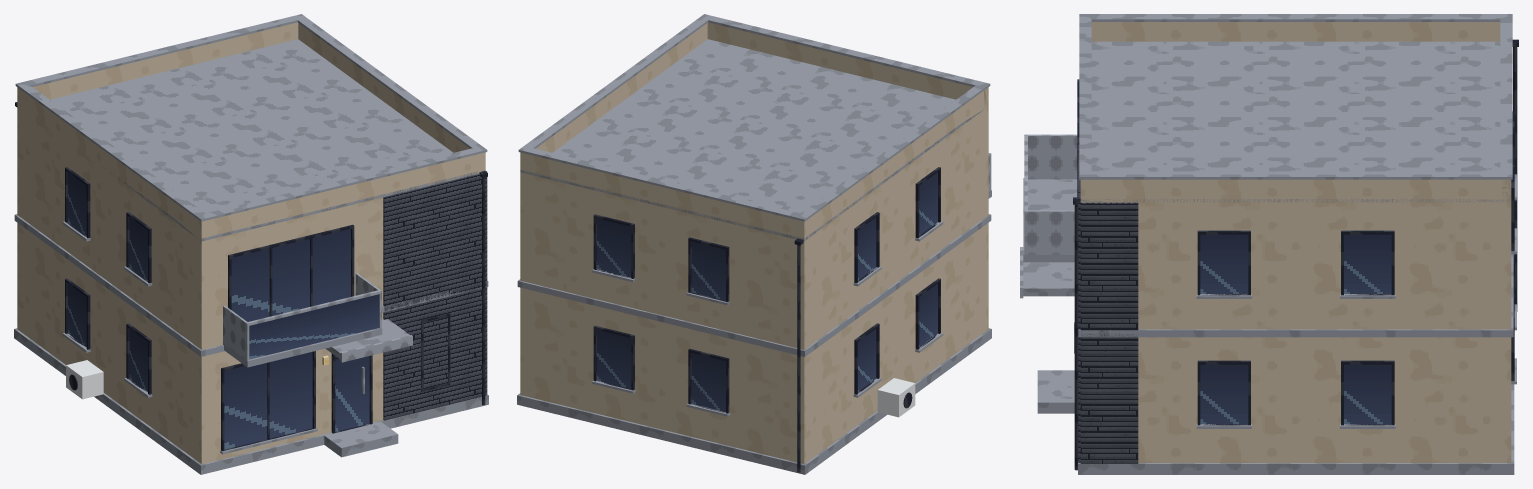
The model's file is modern_house_2.glb.
3 renders of one model, left to right at view 1: azimuth 30°, elevation 25°; view 2: azimuth 150°, elevation 25°; view 3: azimuth 270°, elevation 25°, orthographic. The views are drawn at different scales.
Parts seen in each view (by area): view 1: modern_house_3; view 2: modern_house_3; view 3: modern_house_3.
Part boxes in pixels (x1,y1,x2,y2): modern_house_3: (14, 14, 488, 474); modern_house_3: (517, 14, 991, 474); modern_house_3: (1020, 14, 1518, 474).
Bounding box in the file's own units: 8.8 × 6.86 × 10.43.
9 materials, 9 textured.
